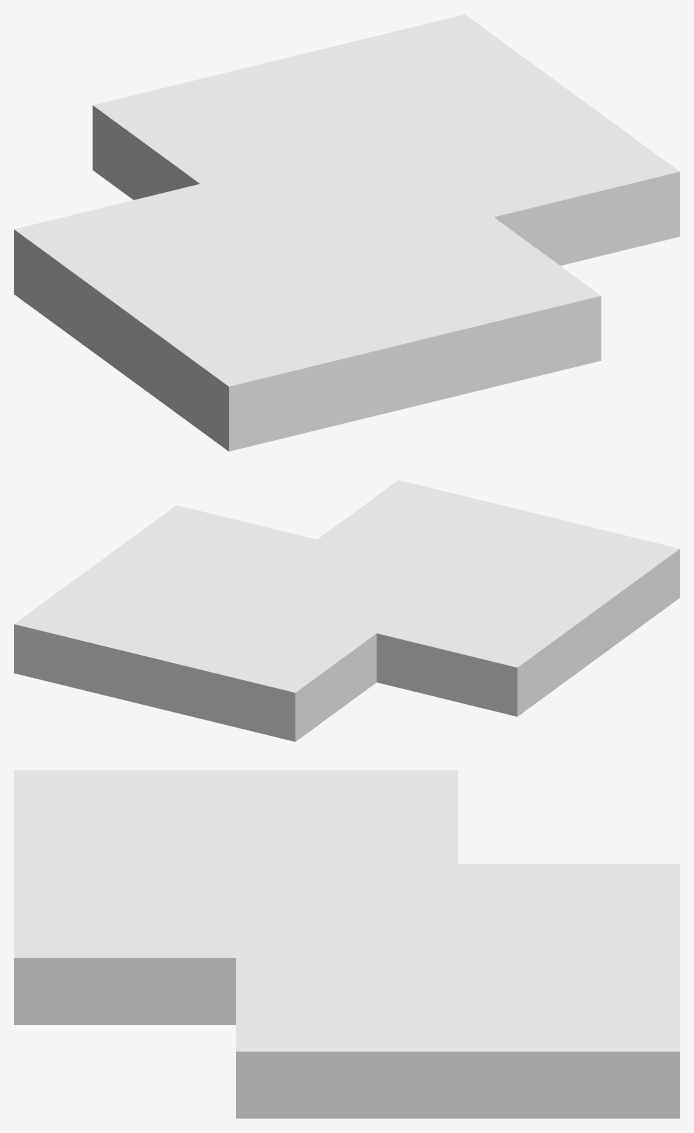
File: cloud4.gltf
The picture shows the model from 3 angles, top to bottom: view 1: azimuth 30°, elevation 25°; view 2: azimuth 150°, elevation 25°; view 3: azimuth 270°, elevation 25°; orthographic projection. The views are drawn at different scales.
Visible parts, largest first — view 1: cloud4; view 2: cloud4; view 3: cloud4.
Part boxes in pixels (x1=…): cloud4: x1=14, y1=14, x2=679, y2=451; cloud4: x1=14, y1=480, x2=679, y2=741; cloud4: x1=14, y1=770, x2=679, y2=1118.
Size of the model in its own units: 36 by 4 by 36.
1 material, 1 textured.
